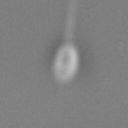normal: (52, 1, 88, 45)
